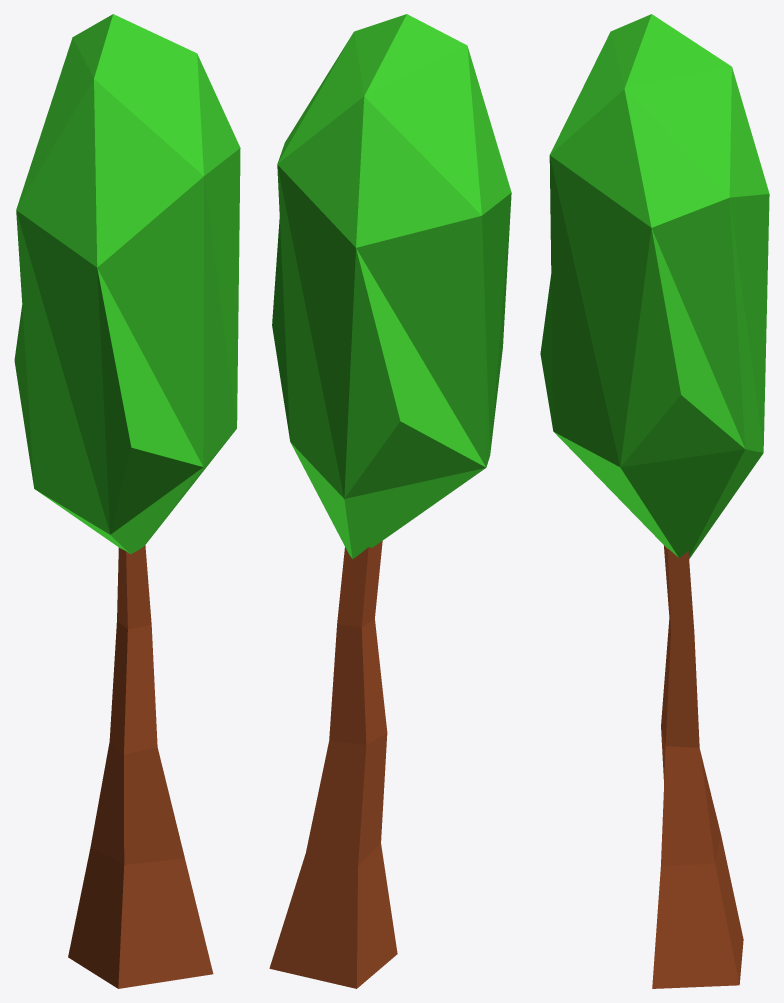
Rendered from tree3.obj.
The picture shows the model from 3 angles, left to right: view 1: azimuth 30°, elevation 25°; view 2: azimuth 150°, elevation 25°; view 3: azimuth 270°, elevation 25°; orthographic projection. The views are drawn at different scales.
Visible parts, largest first — view 1: trunk2; view 2: trunk2; view 3: trunk2.
Boxes of the visible parts, x1,y1,x2,y2 form: trunk2: (14, 14, 240, 988); trunk2: (269, 14, 511, 988); trunk2: (540, 14, 769, 988).
Size of the model in its own units: 1.33 by 5.85 by 1.31.
